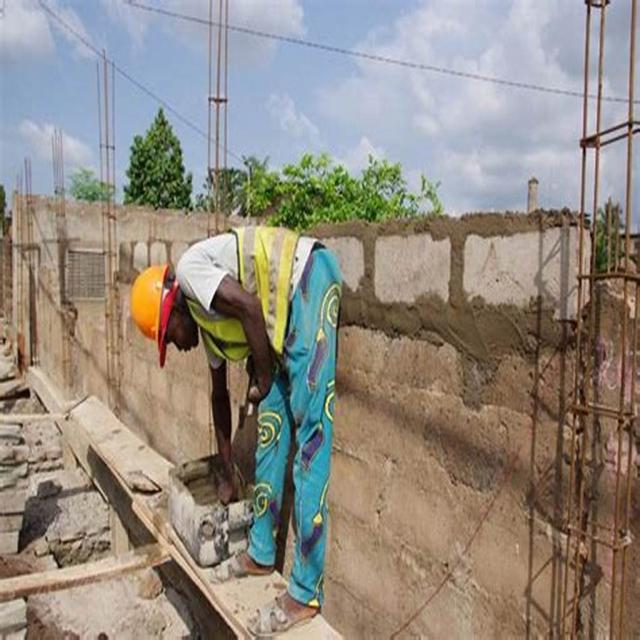hardhat: (129, 262, 194, 371)
no_boots: (244, 573, 324, 633), (213, 537, 274, 592)
no_gloves: (212, 460, 261, 512), (247, 359, 284, 410)
person: (127, 223, 345, 632)
vest: (177, 221, 332, 375)
